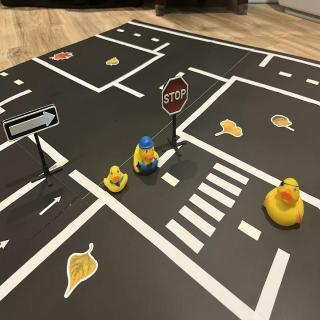duck_regular: (105, 164, 130, 196)
duck_specialty: (263, 175, 307, 231), (134, 135, 160, 180)
road_crosswalk: (161, 158, 255, 262)
road_oneway: (38, 193, 65, 219), (1, 232, 13, 256)
sign_oneway_right: (2, 101, 61, 145)
